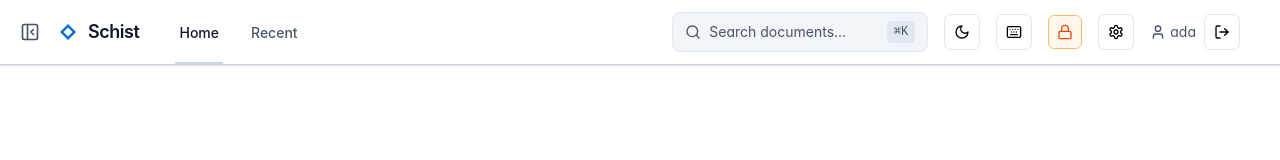
Test case: Navigation › ignores a second unlock click while one is running
Click the button with test id "quick-unlock-button": [1065, 32] box [1048,15,1082,49]
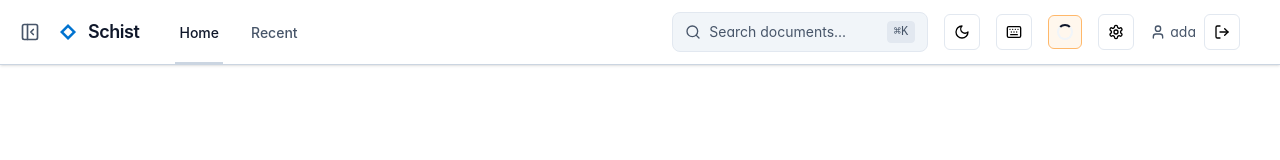
Expected: the button with test id "quick-unlock-button" is disabled
Click the button with test id "quick-unlock-button": [1065, 32] box [1048,15,1082,49]
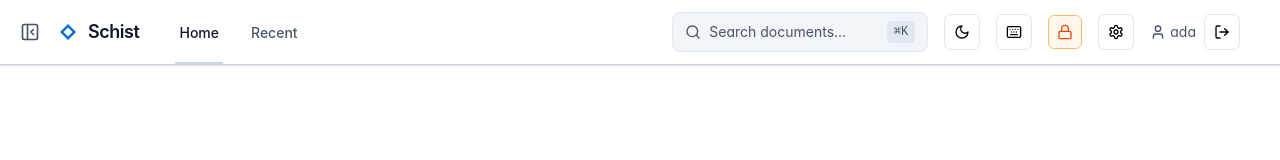
Expected: the button with test id "quick-unlock-button" is enabled, [1048,15,1082,49]
